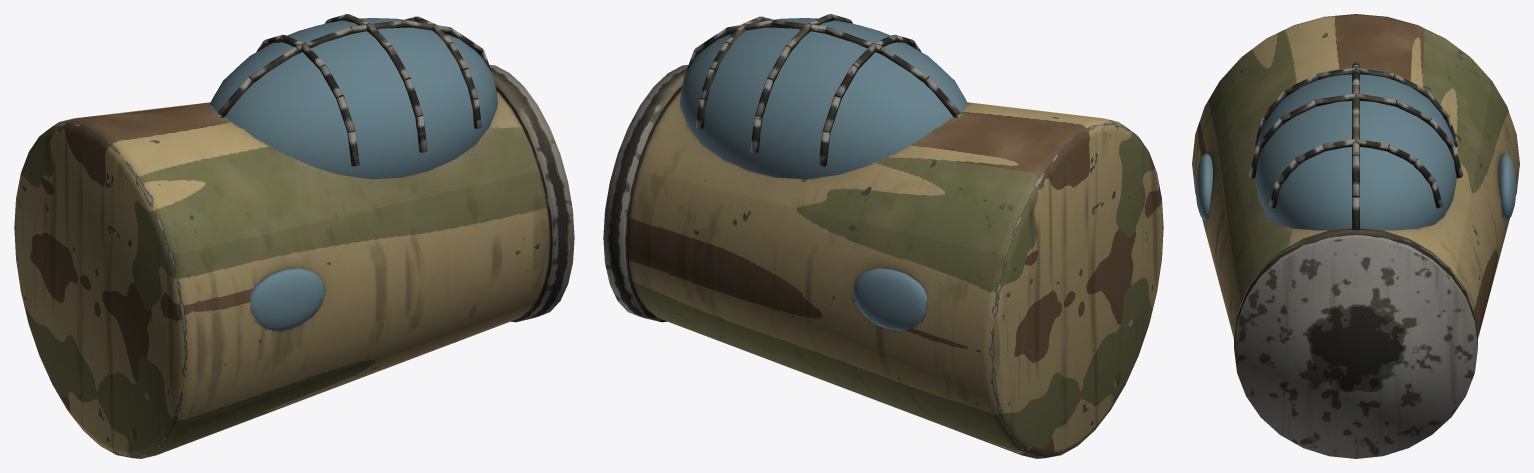
Rendered from turret_kit_tail_cabin_reed.glb.
3 renders of one model, left to right at view 1: azimuth 30°, elevation 25°; view 2: azimuth 150°, elevation 25°; view 3: azimuth 270°, elevation 25°, orthographic. The views are drawn at different scales.
Parts seen in each view (by area): view 1: turret_tail_cabin; view 2: turret_tail_cabin; view 3: turret_tail_cabin.
Part boxes in pixels (<box>): turret_tail_cabin: <box>14,14,574,458</box>; turret_tail_cabin: <box>603,14,1163,458</box>; turret_tail_cabin: <box>1192,14,1519,458</box>.
Size of the model in its own units: 1.14 by 0.9506 by 0.8335.
Materials: 2 (1 with a texture image).
